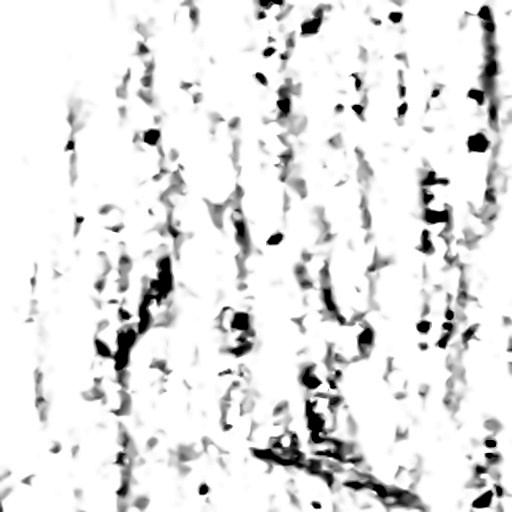egg: (117, 329, 135, 369), (308, 409, 321, 441), (473, 490, 494, 507), (469, 133, 488, 151), (143, 129, 159, 145), (232, 312, 247, 329), (302, 18, 318, 33), (96, 339, 110, 355), (304, 374, 320, 388), (468, 88, 482, 103), (267, 232, 280, 244), (417, 321, 429, 332), (389, 12, 400, 22), (263, 47, 274, 56)
